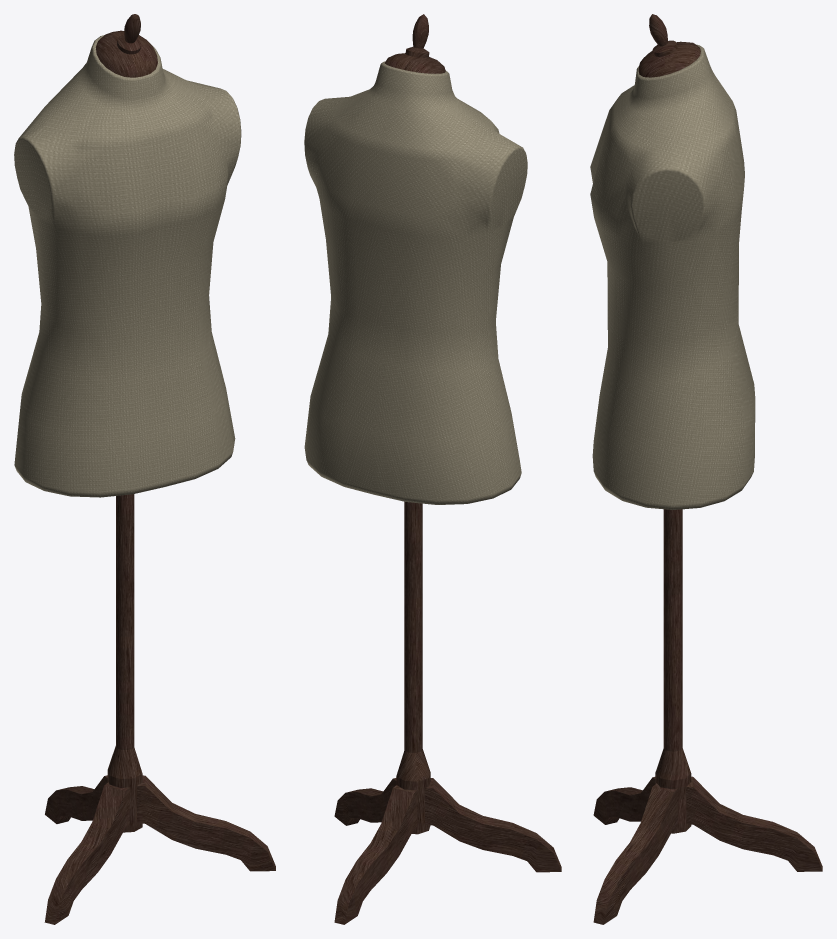
File: mannequin.glb
3 views of the same model, side by side, from view 1: azimuth 30°, elevation 25°; view 2: azimuth 150°, elevation 25°; view 3: azimuth 270°, elevation 25° (orthographic).
Parts seen in each view (by area): view 1: defaultMaterial; view 2: defaultMaterial; view 3: defaultMaterial.
Boxes of the visible parts, x1,y1,x2,y2 form: defaultMaterial: (14,14,275,924); defaultMaterial: (304,14,561,924); defaultMaterial: (590,14,822,924).
Bounding box in the file's own units: 48.58 × 173 × 42.67.
1 material, 1 textured.
